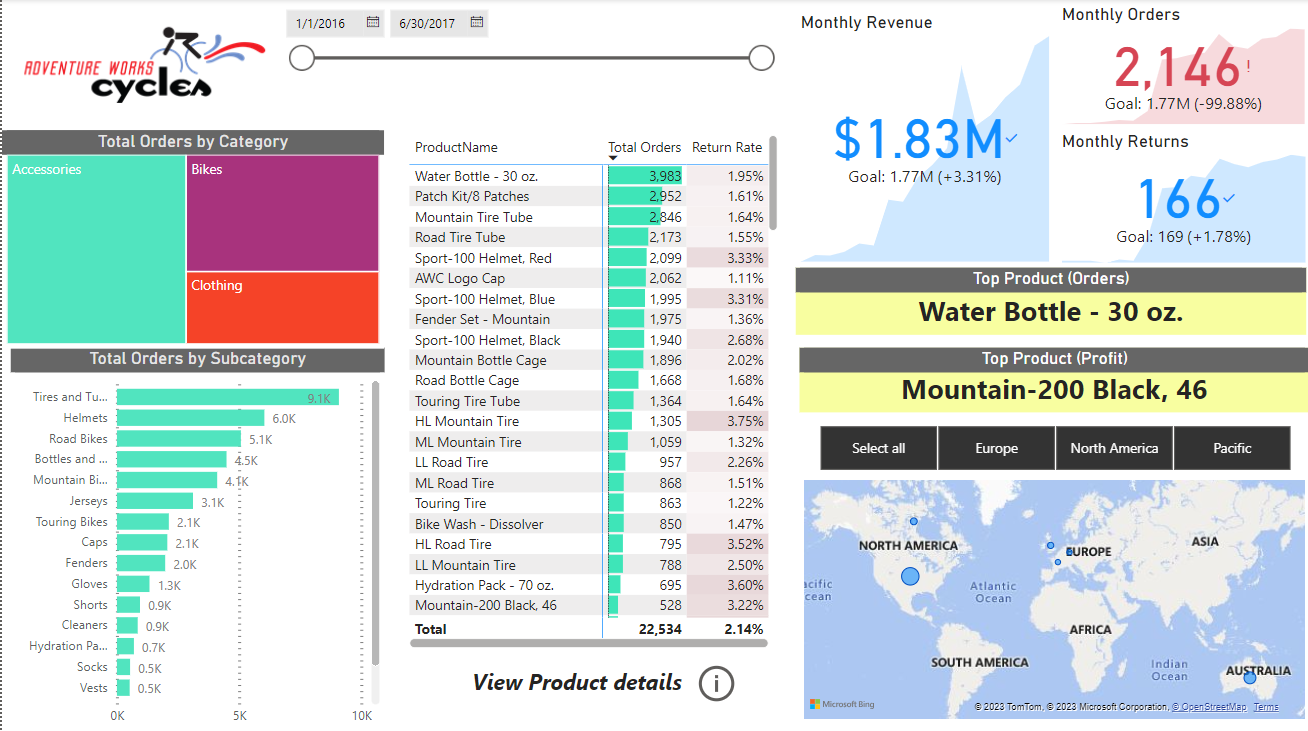

Layout of this report page (visuals, bound fields, positions):
{"tool":"powerbi","page":{"name":"Summary","canvas":[1280,720],"ordinal":0},"visuals":[{"type":"image","box":[16.7,0,248.6,128.1],"z":0},{"type":"barChart","title":"Total Orders by Subcategory","fields":{"Y":["AW_Sales.Total Orders"],"Category":["AW_Product_Subcategories_Lookup.SubcategoryName"]},"box":[8.1,341.7,365.9,378],"z":1000},{"type":"treemap","title":"Total Orders by Category","fields":{"Group":["AW_Product_Categories_Lookup.CategoryName","AW_Product_Subcategories_Lookup.SubcategoryName"],"Values":["AW_Sales.Total Orders"]},"box":[0,127.8,373.9,213.9],"z":2000},{"type":"pivotTable","fields":{"Rows":["AW_Products_Lookup.ProductName"],"Values":["AW_Sales.Total Orders","AW_Returns.Return Rate"]},"box":[394.1,127.8,369.9,511.1],"z":3000},{"type":"slicer","fields":{"Values":["AW_Calendar_Lookup.Date"]},"box":[265,0,499,100.9],"z":4000},{"type":"kpi","title":"Monthly Revenue","fields":{"Indicator":["AW_Sales.Total Revenue"],"TrendLine":["AW_Calendar_Lookup.Start of Month"],"Goal":["AW_Sales.Perv Month Revenue"]},"box":[776.1,12.1,252.9,250.2],"z":5000},{"type":"kpi","title":"Monthly Orders","fields":{"TrendLine":["AW_Calendar_Lookup.Start of Month"],"Goal":["AW_Sales.Perv Month Revenue"],"Indicator":["AW_Sales.Total Orders"]},"box":[1031.7,5.4,247.5,122.4],"z":6000},{"type":"kpi","title":"Monthly Returns","fields":{"TrendLine":["AW_Calendar_Lookup.Start of Month"],"Indicator":["AW_Returns.Total Returns"],"Goal":["AW_Returns.Perv Month Return"]},"box":[1031.7,128.4,248.1,134.5],"z":7000},{"type":"card","title":"Top Product (Orders)","fields":{"Values":["Min(AW_Products_Lookup.ProductName)"]},"box":[776.1,262.3,499,65.9],"z":8000},{"type":"card","title":"Top Product (Profit)","fields":{"Values":["Min(AW_Products_Lookup.ProductName)"]},"box":[779.9,341.1,498.7,63.6],"z":9000},{"type":"map","fields":{"Category":["AW_Territories_Lookup.Country"],"Size":["AW_Sales.Total Orders"]},"box":[779.9,465.7,498.7,243.3],"z":10000},{"type":"slicer","fields":{"Values":["AW_Territories_Lookup.Continent"]},"box":[779.9,413.2,498.7,52.6],"z":11000},{"type":"textbox","box":[454.6,648.3,274.4,44.4],"z":12000},{"type":"actionButton","box":[676.6,647,67.3,45.7],"z":13000}]}

Visuals, with their boxes in screenshot pixels (x1, y1, x2, y2), scaled from the page's 1280x720 canvas onto the 1308x731 screenshot:
image: 17/0/271/130
"Total Orders by Subcategory" barChart: 8/347/382/730
"Total Orders by Category" treemap: 0/130/382/347
pivotTable - AW_Products_Lookup.ProductName x AW_Sales.Total Orders: 403/130/781/649
slicer - AW_Calendar_Lookup.Date: 271/0/781/102
"Monthly Revenue" kpi: 793/12/1052/266
"Monthly Orders" kpi: 1054/5/1307/130
"Monthly Returns" kpi: 1054/130/1307/267
"Top Product (Orders)" card: 793/266/1303/333
"Top Product (Profit)" card: 797/346/1307/411
map - AW_Territories_Lookup.Country x AW_Sales.Total Orders: 797/473/1307/720
slicer - AW_Territories_Lookup.Continent: 797/420/1307/473
textbox: 465/658/745/703
actionButton: 691/657/760/703
